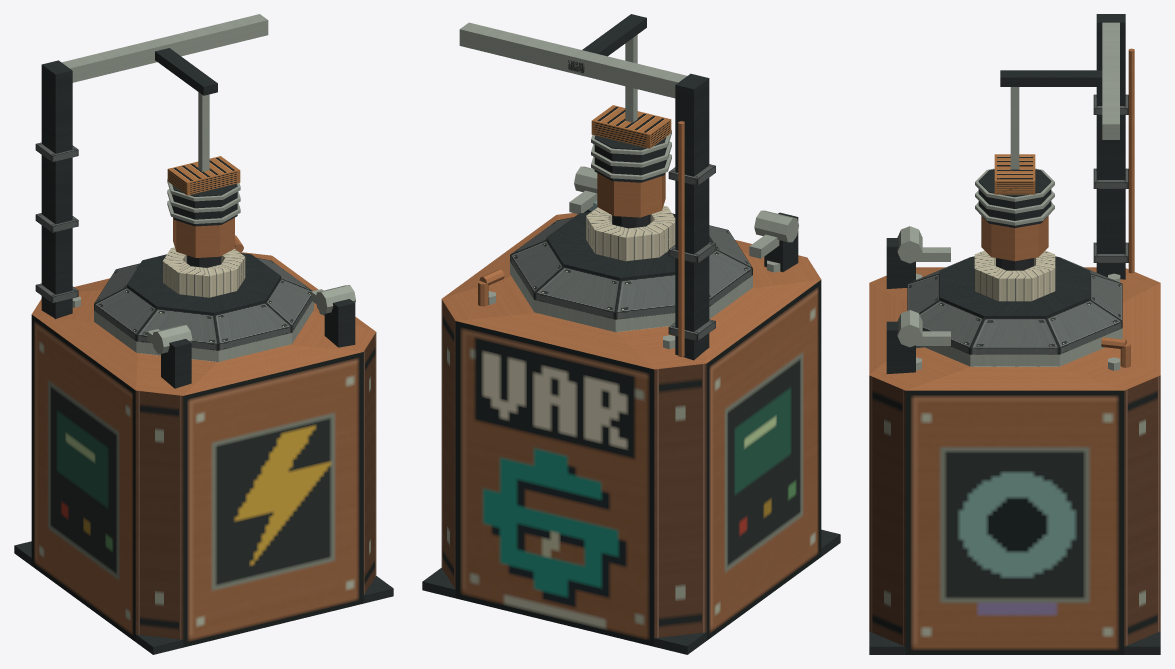
The model's file is small_var.obj.
3 views of the same model, side by side, from view 1: azimuth 30°, elevation 25°; view 2: azimuth 150°, elevation 25°; view 3: azimuth 270°, elevation 25° (orthographic). The views are drawn at different scales.
Visible parts, largest first — view 1: contact_south, contact_west, lid, cut_corners, mast, shoulder, electrode, hinge, sole_edge, carriage, suspension; view 2: contact_north, contact_west, lid, cut_corners, mast, shoulder, electrode, hinge, sole_edge, carriage, suspension; view 3: contact_east, lid, cut_corners, shoulder, mast, electrode, hinge, carriage, sole_edge, suspension, buswork.
Part boxes in pixels (x1,y1,x2,y2): contact_south: (183,352,363,647); contact_west: (31,314,135,641); lid: (94,247,323,361); cut_corners: (135,332,376,639); mast: (35,14,268,319); shoulder: (32,252,375,395); electrode: (167,156,240,267); hinge: (152,285,355,388); sole_edge: (14,541,393,654); carriage: (155,48,217,95); suspension: (198,92,209,171); contact_north: (455,321,654,646); contact_west: (706,280,821,640); lid: (510,190,779,332); cut_corners: (441,299,706,638); mast: (459,22,715,360); shoulder: (442,213,821,369); electrode: (591,105,671,228); hinge: (574,166,798,272); sole_edge: (422,529,840,654); carriage: (568,14,646,73); suspension: (625,35,637,122); contact_east: (905,390,1124,654); lid: (907,247,1122,366); cut_corners: (869,375,1160,646); shoulder: (869,267,1160,390); mast: (1093,14,1134,279); electrode: (975,154,1054,270); hinge: (886,226,922,373); carriage: (1000,70,1102,86); sole_edge: (869,631,1160,654); suspension: (1010,87,1019,169); buswork: (916,337,1130,367).
Size of the model in its own units: 1 by 1.98 by 1.
15 materials, 15 textured.
